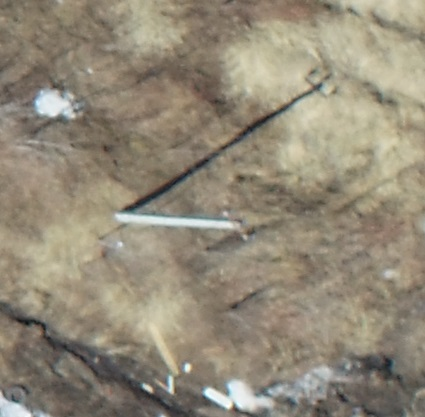opora: (113, 182, 259, 241)
